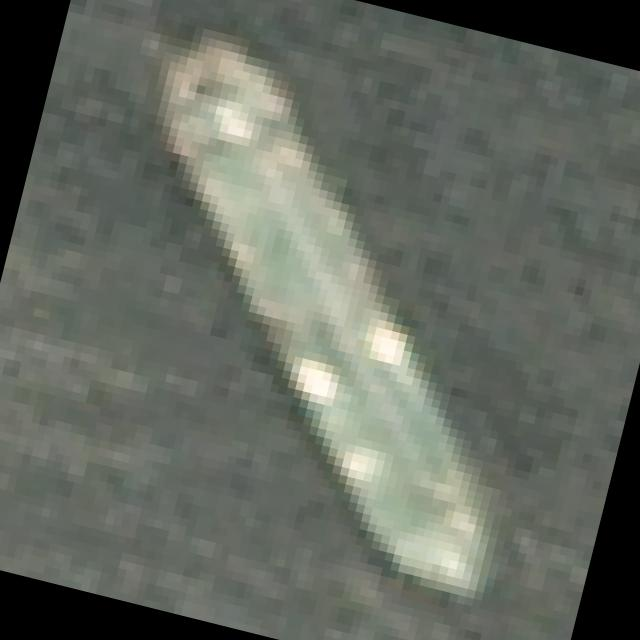ship: (44, 8, 622, 600)
